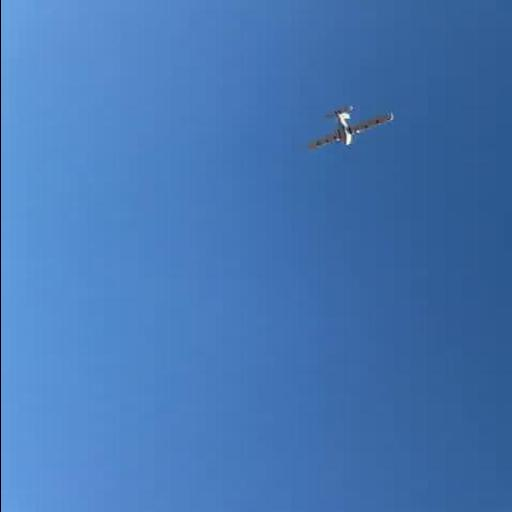uav: (298, 102, 400, 154)
